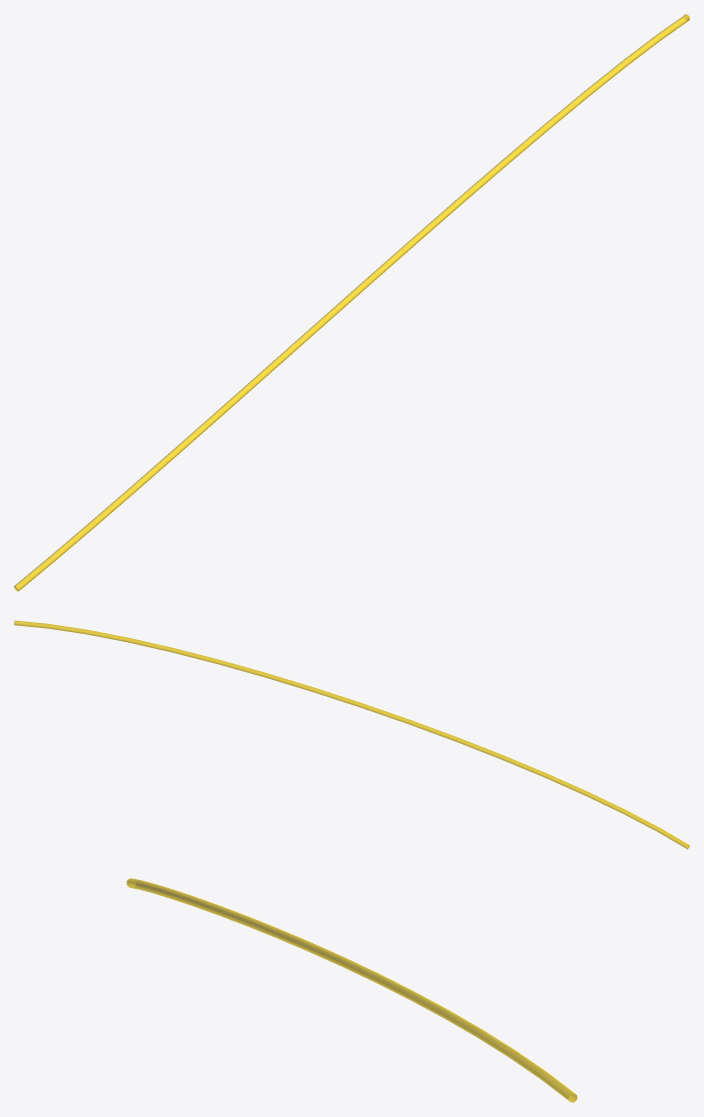
File: Event_84804159_track_10.fbx
The picture shows the model from 3 angles, top to bottom: view 1: azimuth 30°, elevation 25°; view 2: azimuth 150°, elevation 25°; view 3: azimuth 270°, elevation 25°; orthographic projection. The views are drawn at different scales.
Visible parts, largest first — view 1: Model; view 2: Model; view 3: Model.
Boxes of the visible parts, bbox=[...] form: Model: bbox=[14, 14, 689, 591]; Model: bbox=[14, 620, 689, 849]; Model: bbox=[126, 878, 577, 1102].
Size of the model in its own units: 5.38 by 1.56 by 1.86.
